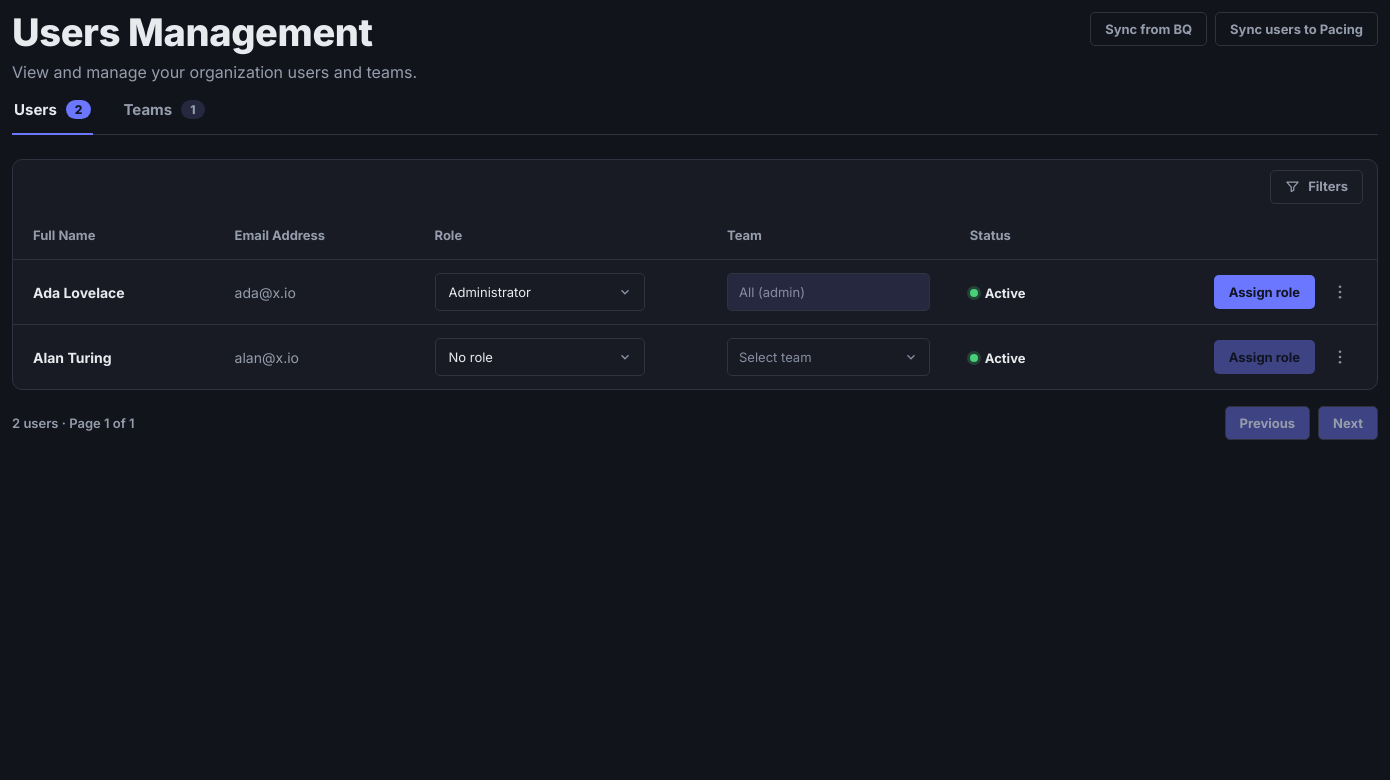
Test case: TeamManagement › should expose deactivate and delete in the user actions menu
Expected: the text "Alan Turing" is shown, [13,325,215,389]
Click the button named "Actions for Alan Turing" at (1340, 357), box [1323,340,1357,374]
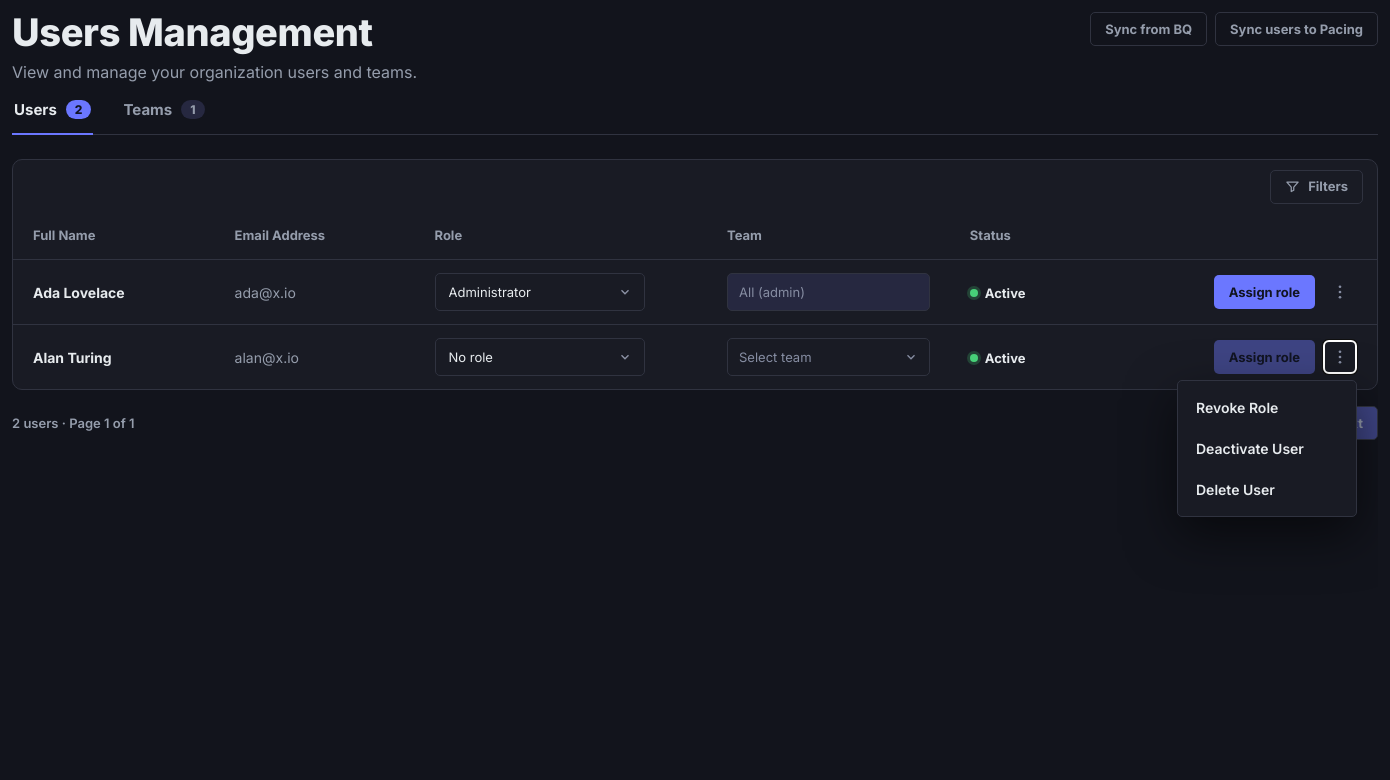
Result: the menu item "Deactivate User" is shown at [1184,428,1350,469]
Click the menu item "Delete User" at (1267, 490), box [1184,469,1350,510]
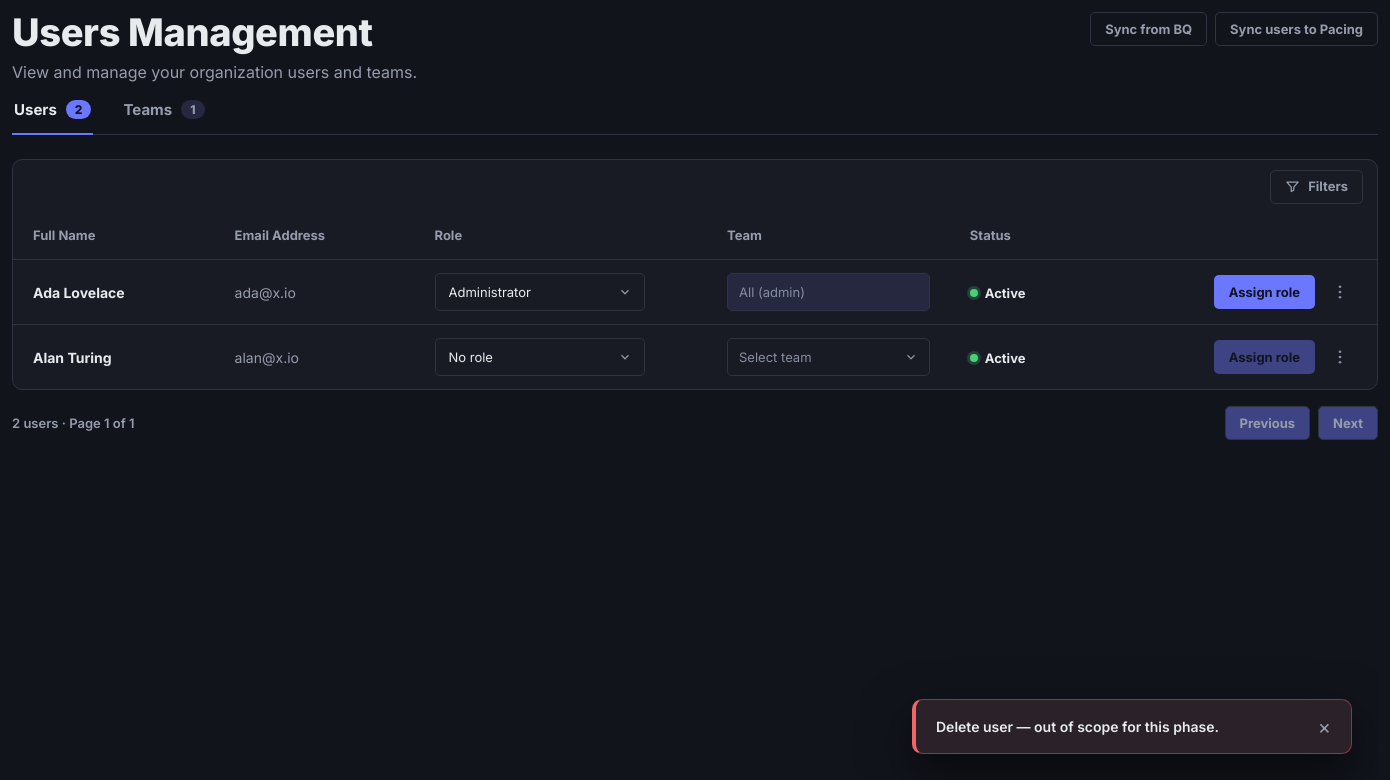
Result: the text "Delete user — out of scope for this phase." is shown at [936,718,1219,735]
